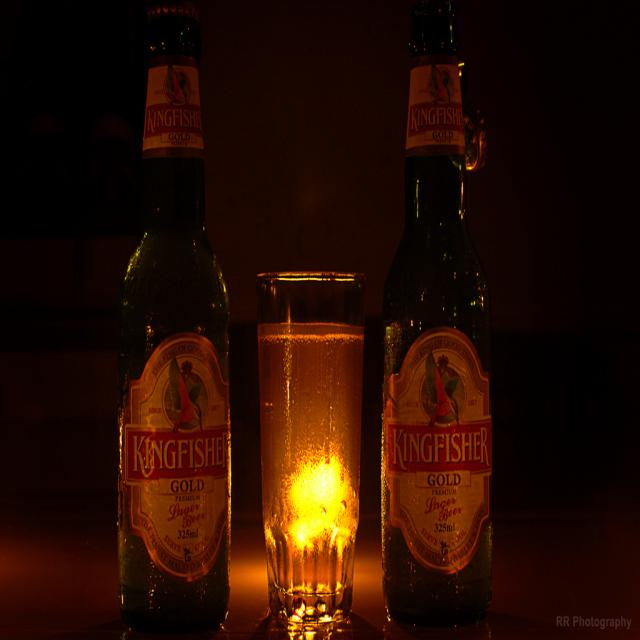Bottle: (85, 3, 252, 627), (389, 3, 523, 626)
Cup: (254, 237, 367, 624)
